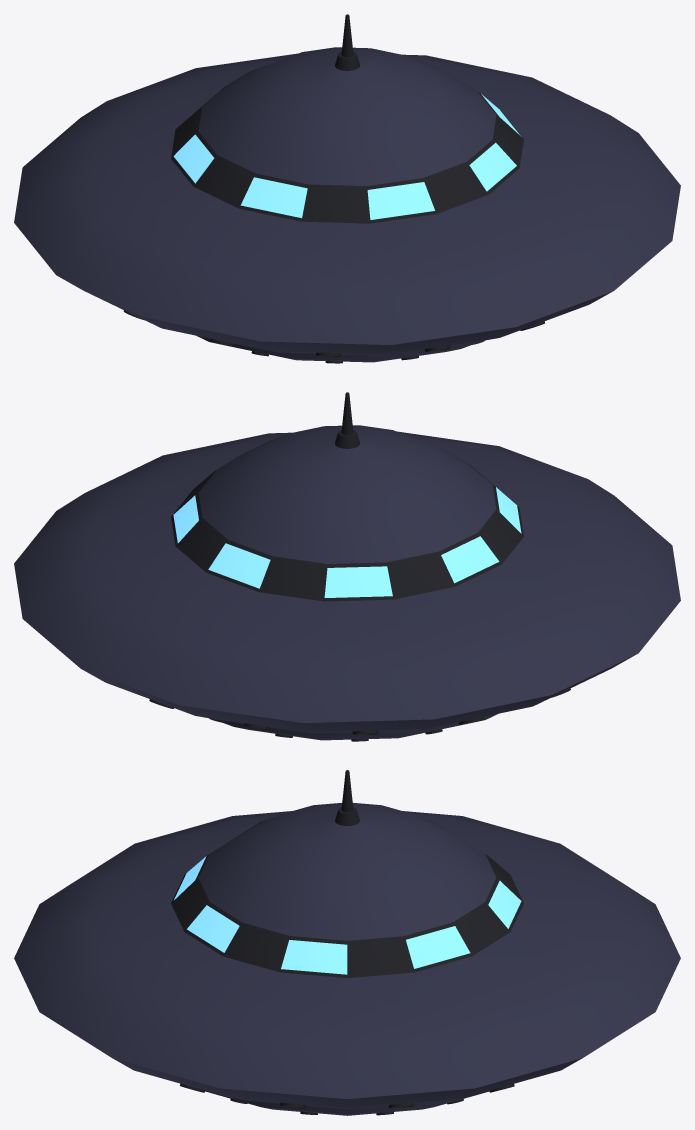
The model's file is ufo.gltf.
The picture shows the model from 3 angles, top to bottom: view 1: azimuth 30°, elevation 25°; view 2: azimuth 150°, elevation 25°; view 3: azimuth 270°, elevation 25°; orthographic projection.
Parts seen in each view (by area): view 1: UFO, Lights; view 2: UFO, Lights; view 3: UFO, Lights.
Boxes of the visible parts, x1,y1,x2,y2 form: UFO: (14,14,680,362); Lights: (123,310,544,363); UFO: (14,392,680,740); Lights: (149,688,570,741); UFO: (14,770,680,1115); Lights: (180,1083,514,1115).
Size of the model in its own units: 461 by 203 by 461.
